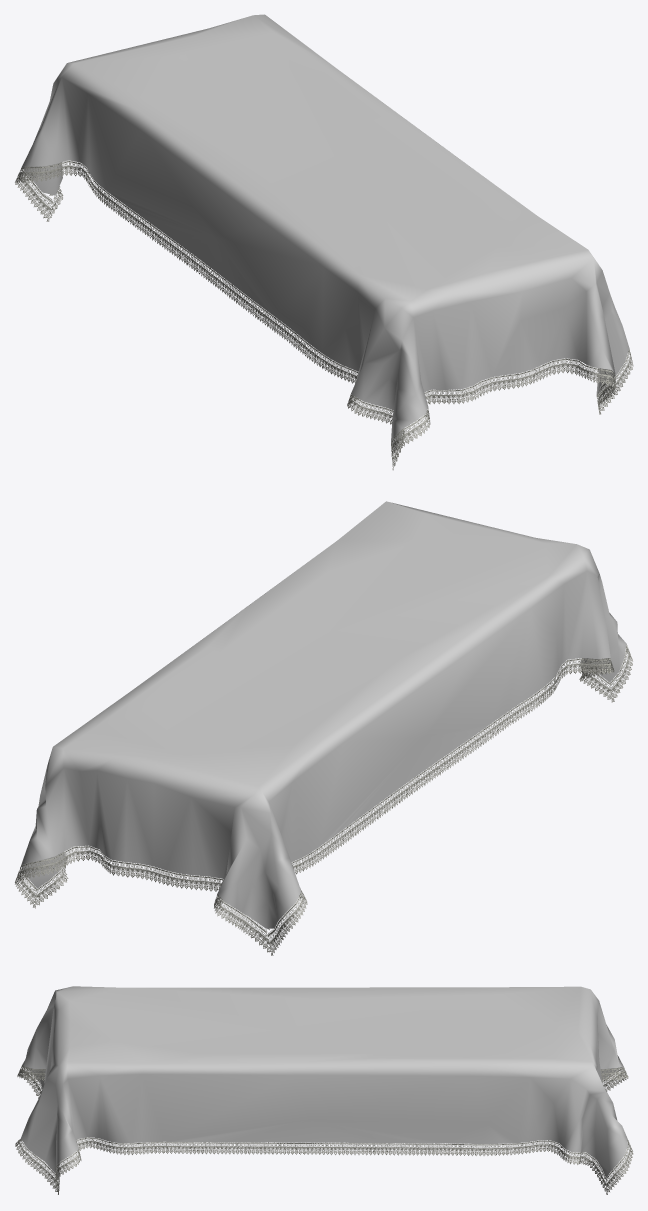
Rendered from table_fabric_1x3.fbx.
3 views of the same model, one above another, from view 1: azimuth 30°, elevation 25°; view 2: azimuth 150°, elevation 25°; view 3: azimuth 270°, elevation 25° (orthographic). The views are drawn at different scales.
Parts seen in each view (by area): view 1: table_fabric_1x3; view 2: table_fabric_1x3; view 3: table_fabric_1x3.
Part boxes in pixels (<box>): table_fabric_1x3: <box>15,14,633,470</box>; table_fabric_1x3: <box>15,501,632,955</box>; table_fabric_1x3: <box>15,986,633,1194</box>.
Bounding box in the file's own units: 1.53 × 0.8438 × 3.59.
